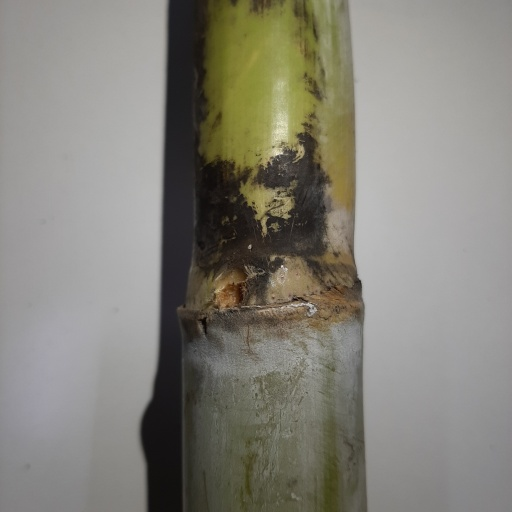Damage_Bud: (211, 274, 246, 312)
